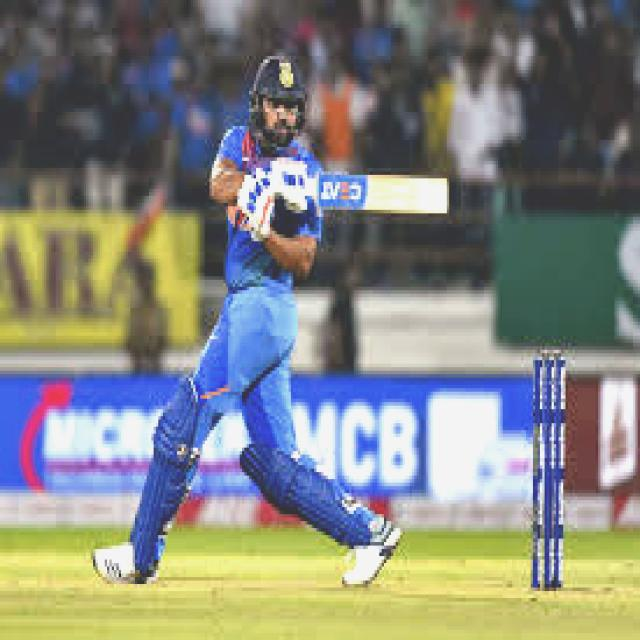toe: (428, 174, 452, 223)
